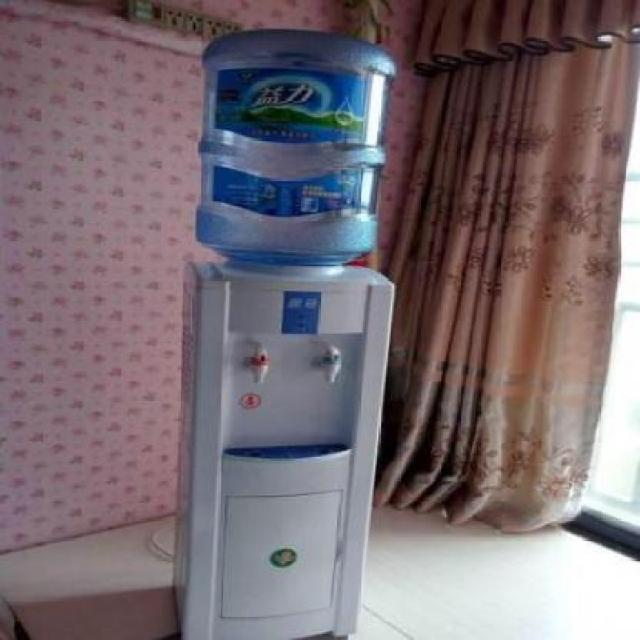cooler: (183, 28, 400, 639)
